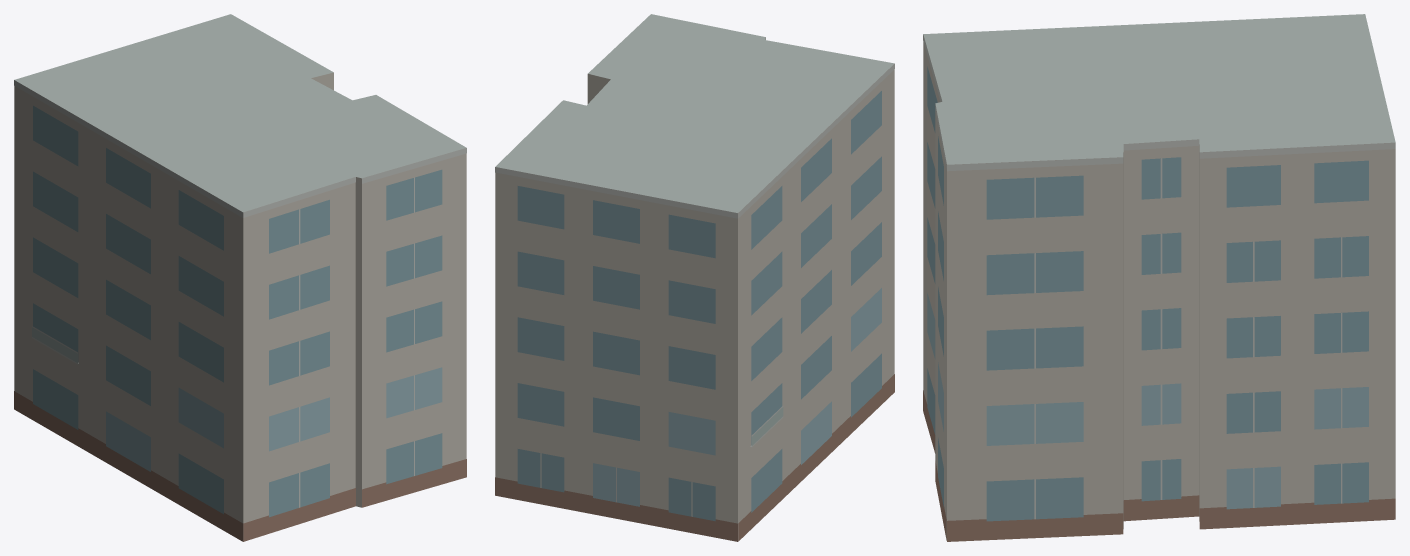
File: survey-upis-33037387.glb
3 renders of one model, left to right at view 1: azimuth 30°, elevation 25°; view 2: azimuth 150°, elevation 25°; view 3: azimuth 270°, elevation 25°, orthographic. The views are drawn at different scales.
Visible parts, largest first — view 1: survey-upis-33037387.tmp; view 2: survey-upis-33037387.tmp; view 3: survey-upis-33037387.tmp.
Boxes of the visible parts, x1=… form: survey-upis-33037387.tmp: x1=14, y1=14, x2=466, y2=541; survey-upis-33037387.tmp: x1=495, y1=14, x2=894, y2=541; survey-upis-33037387.tmp: x1=923, y1=14, x2=1395, y2=541.
Size of the model in its own units: 12.27 by 14.3 by 16.25.
